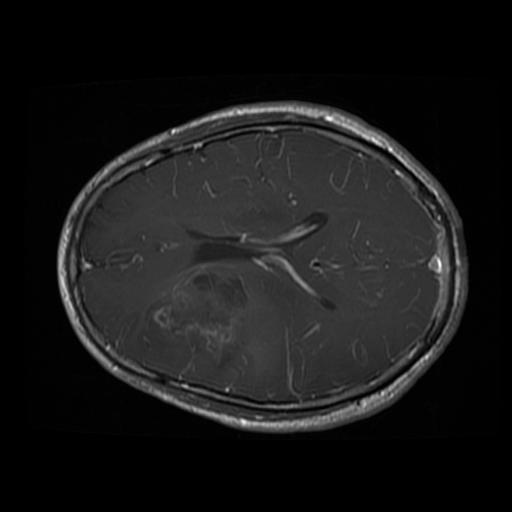glioma: (145, 264, 253, 363)
